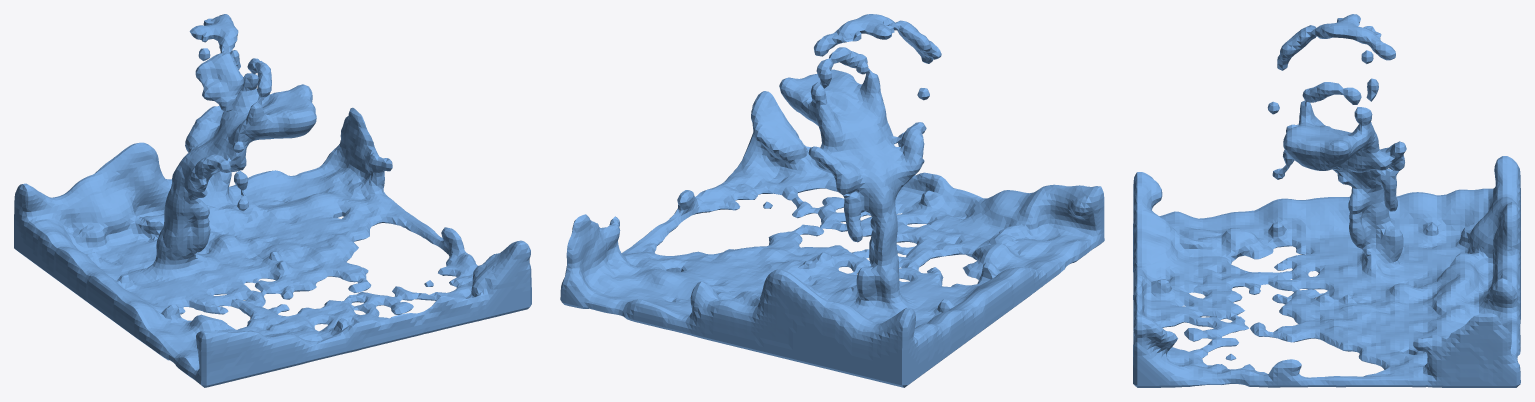
The model's file is water_0077.glb.
The picture shows the model from 3 angles, left to right: view 1: azimuth 30°, elevation 25°; view 2: azimuth 150°, elevation 25°; view 3: azimuth 270°, elevation 25°; orthographic projection. The views are drawn at different scales.
Visible parts, largest first — view 1: Water_0077; view 2: Water_0077; view 3: Water_0077.
Part boxes in pixels (x1=…): Water_0077: x1=14, y1=14, x2=531, y2=387; Water_0077: x1=560, y1=14, x2=1104, y2=387; Water_0077: x1=1133, y1=14, x2=1520, y2=387.
Bounding box in the file's own units: 4.83 × 3.63 × 4.83.
